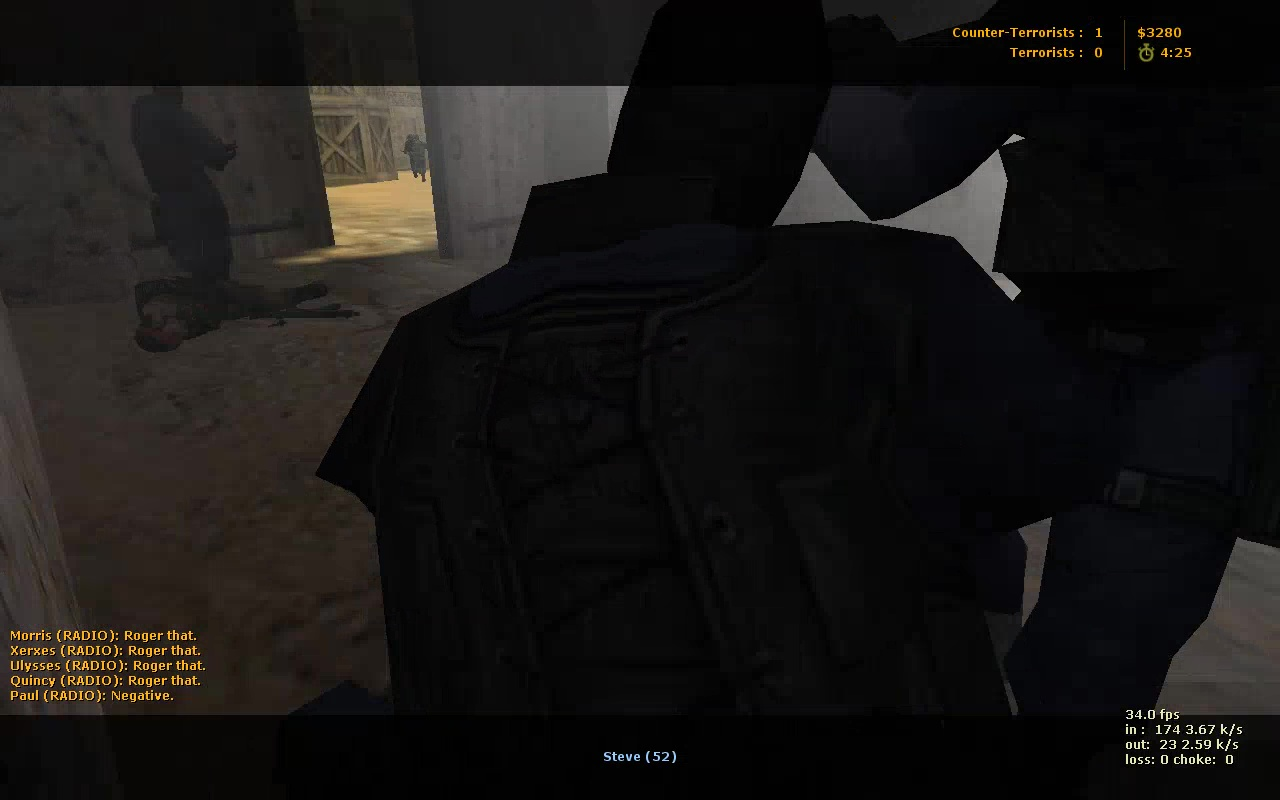ct: (120, 83, 260, 303)
